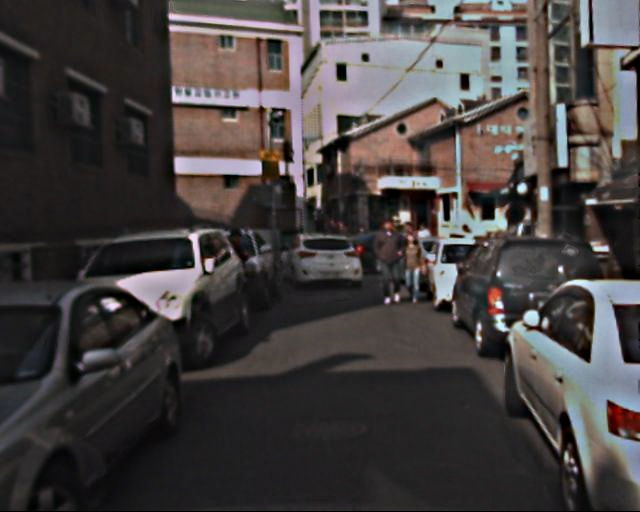person: (371, 218, 407, 305), (220, 227, 254, 310), (395, 224, 428, 304)
